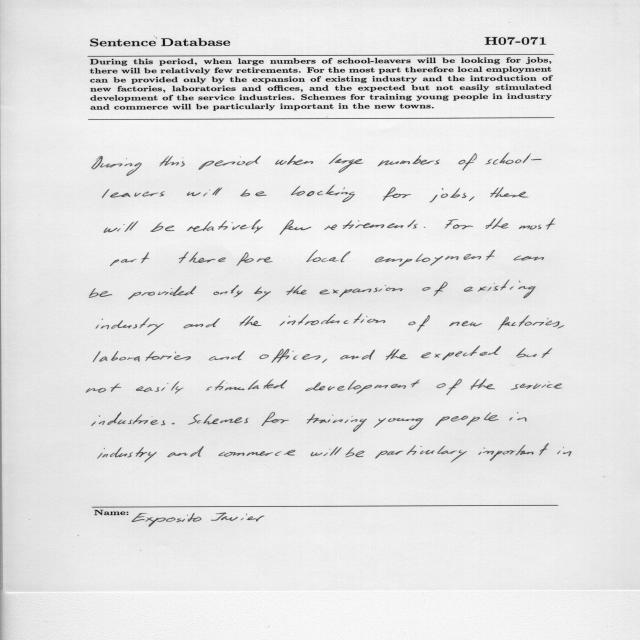word: (375, 250, 495, 267), (305, 379, 420, 394), (375, 445, 467, 463), (179, 251, 273, 266), (464, 280, 536, 298), (478, 443, 549, 461), (280, 314, 386, 326), (96, 318, 164, 335), (421, 346, 501, 360), (291, 185, 355, 202), (307, 414, 367, 432), (93, 351, 191, 362), (187, 219, 263, 233), (92, 412, 165, 426), (320, 285, 403, 297), (206, 379, 288, 391), (92, 156, 142, 175), (324, 220, 418, 230), (199, 155, 261, 170), (498, 315, 560, 330), (128, 286, 197, 299), (435, 412, 499, 426), (98, 447, 157, 462), (259, 349, 321, 363), (378, 155, 440, 166), (329, 154, 364, 173), (189, 414, 249, 425), (485, 153, 542, 164), (136, 381, 184, 394), (374, 418, 423, 430), (102, 189, 165, 198), (110, 252, 149, 266), (430, 188, 466, 203), (306, 250, 351, 262), (219, 450, 296, 457), (280, 220, 311, 235), (511, 381, 562, 390), (519, 218, 555, 230), (436, 379, 462, 395), (104, 221, 138, 233), (167, 446, 204, 457), (383, 187, 411, 201), (490, 187, 528, 197), (262, 412, 289, 426), (408, 315, 430, 332), (422, 282, 448, 296), (213, 285, 243, 297), (184, 319, 220, 329), (516, 348, 552, 358), (340, 350, 375, 360), (209, 351, 245, 360), (458, 154, 477, 171), (187, 188, 222, 197), (87, 384, 122, 393), (311, 447, 342, 457), (445, 219, 473, 230), (159, 156, 185, 167), (470, 379, 495, 390), (287, 155, 313, 165), (150, 222, 175, 232), (486, 218, 508, 229), (386, 349, 408, 360), (254, 287, 271, 301), (89, 288, 112, 298), (239, 316, 262, 326), (286, 285, 307, 295), (241, 189, 267, 197), (346, 448, 365, 458), (509, 412, 527, 422), (449, 321, 482, 326), (514, 256, 544, 261), (557, 447, 572, 456), (275, 160, 287, 165), (558, 325, 565, 329), (469, 196, 474, 201), (322, 359, 327, 363), (172, 423, 175, 425), (424, 227, 426, 228)
